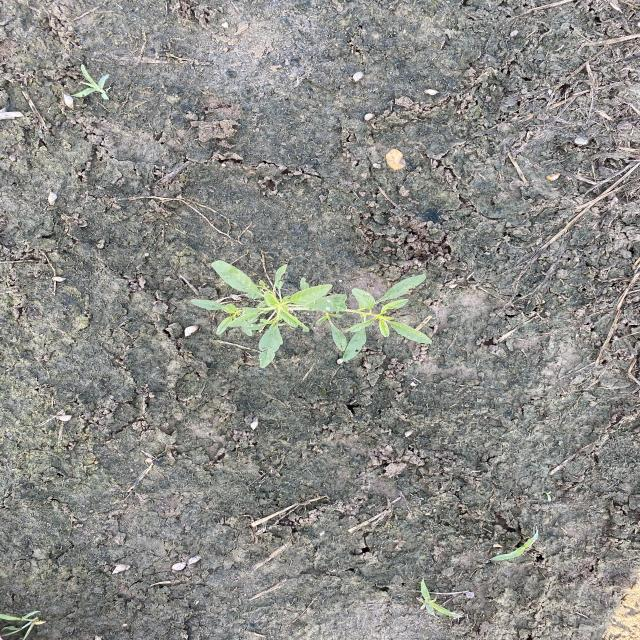Waterhemp: (188, 258, 436, 369)
